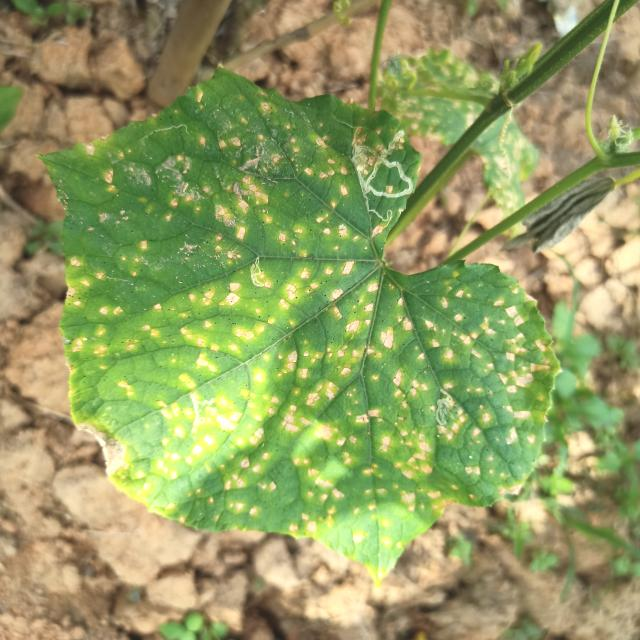disease_cucumber: (77, 111, 543, 531)
